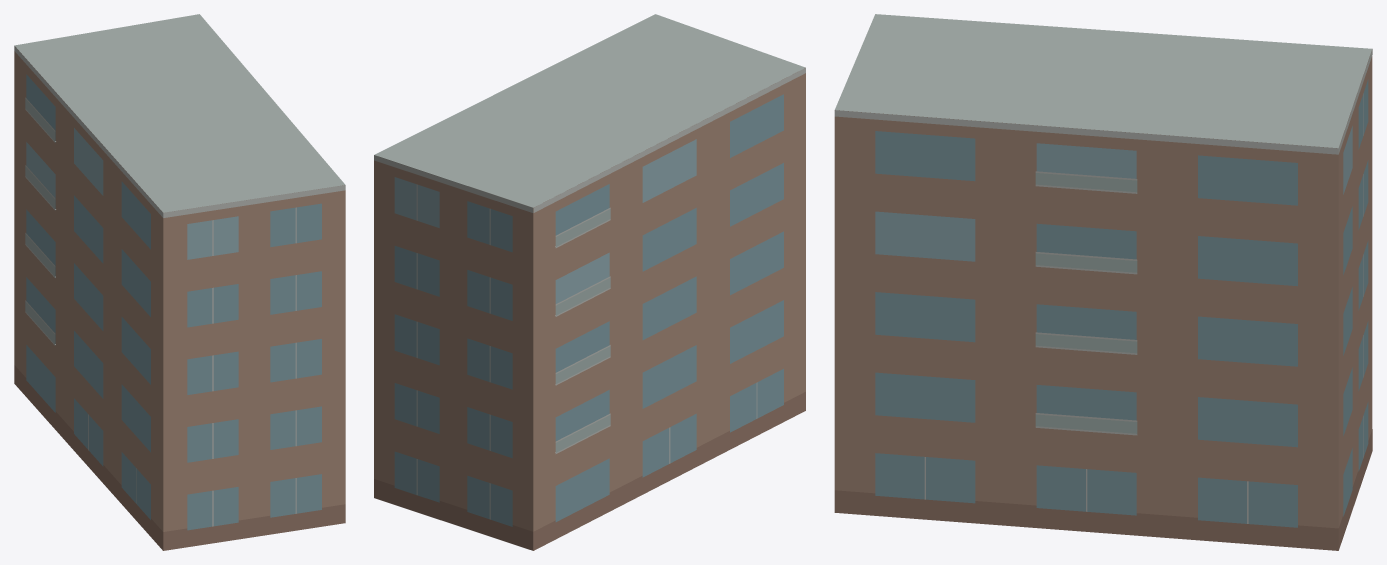
Rendered from survey-upis-32713669.glb.
3 views of the same model, side by side, from view 1: azimuth 30°, elevation 25°; view 2: azimuth 150°, elevation 25°; view 3: azimuth 270°, elevation 25° (orthographic). The views are drawn at different scales.
Visible parts, largest first — view 1: survey-upis-32713669.tmp; view 2: survey-upis-32713669.tmp; view 3: survey-upis-32713669.tmp.
Part boxes in pixels (left/top/right/bottom): survey-upis-32713669.tmp: left=14, top=14, right=345, bottom=550; survey-upis-32713669.tmp: left=374, top=14, right=805, bottom=550; survey-upis-32713669.tmp: left=834, top=14, right=1372, bottom=550.
Bounding box in the file's own units: 10.91 × 15.25 × 18.47.
